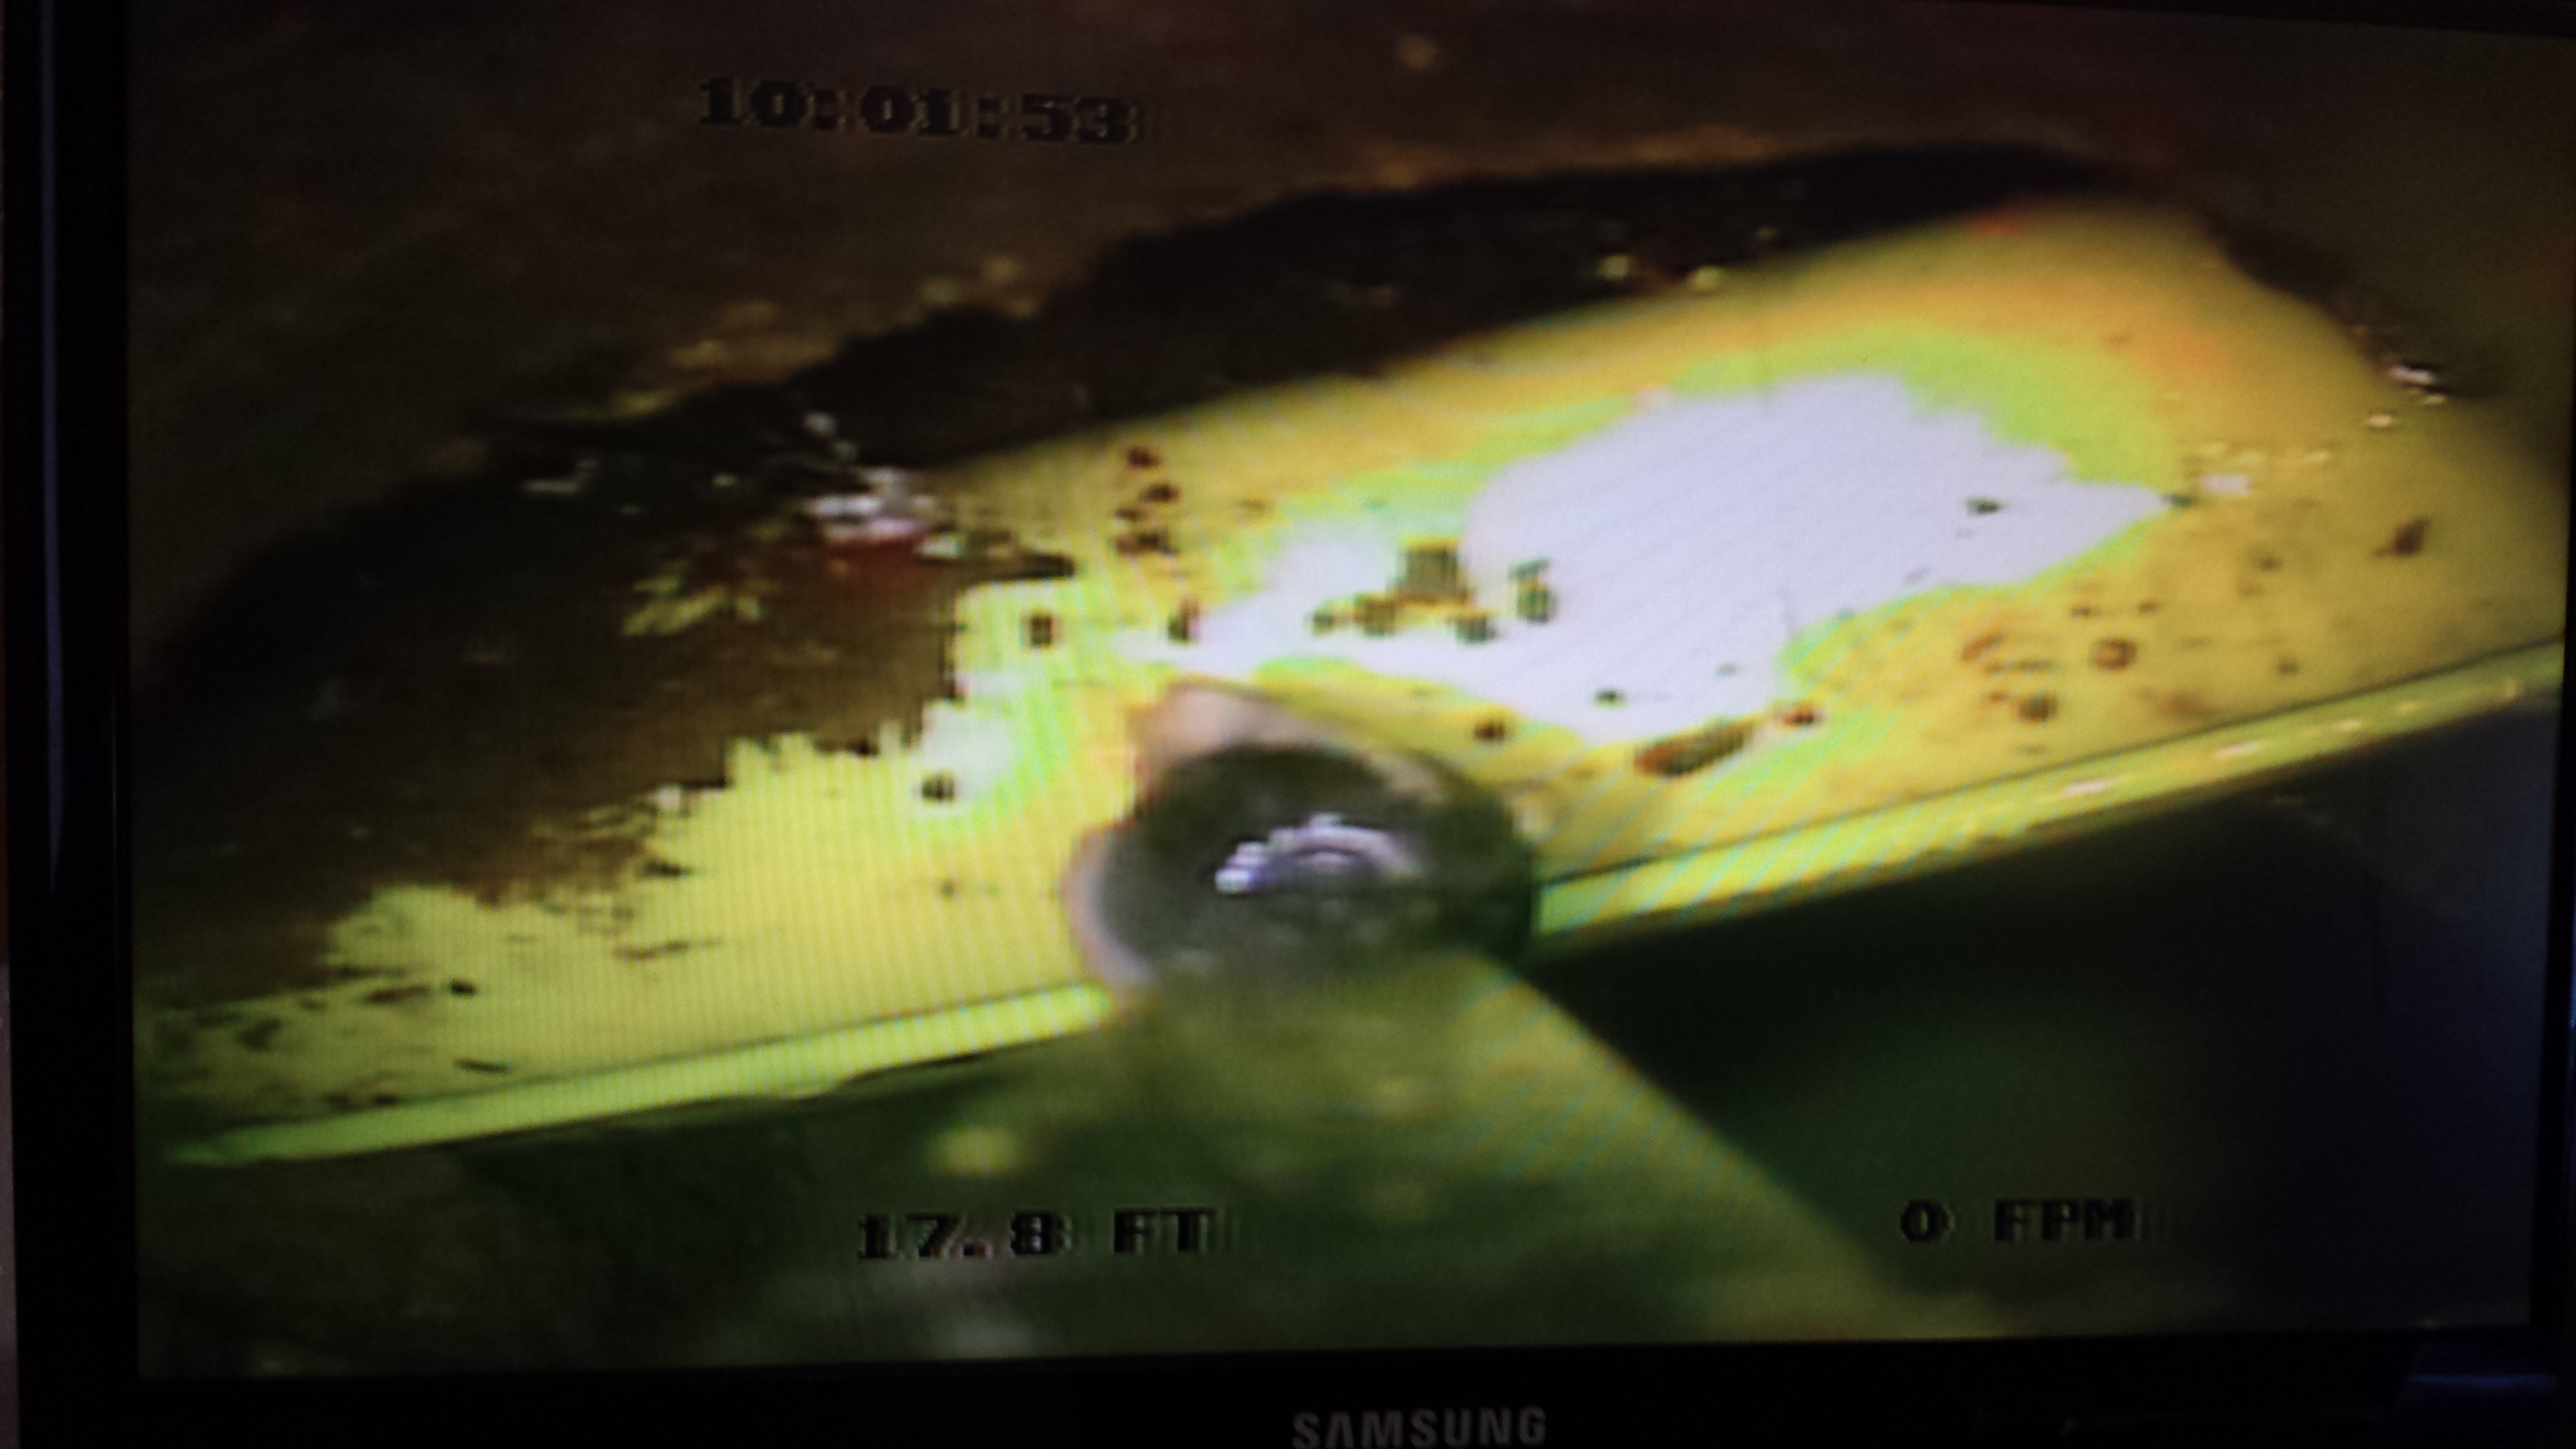cb: (134, 179, 2532, 1178)
